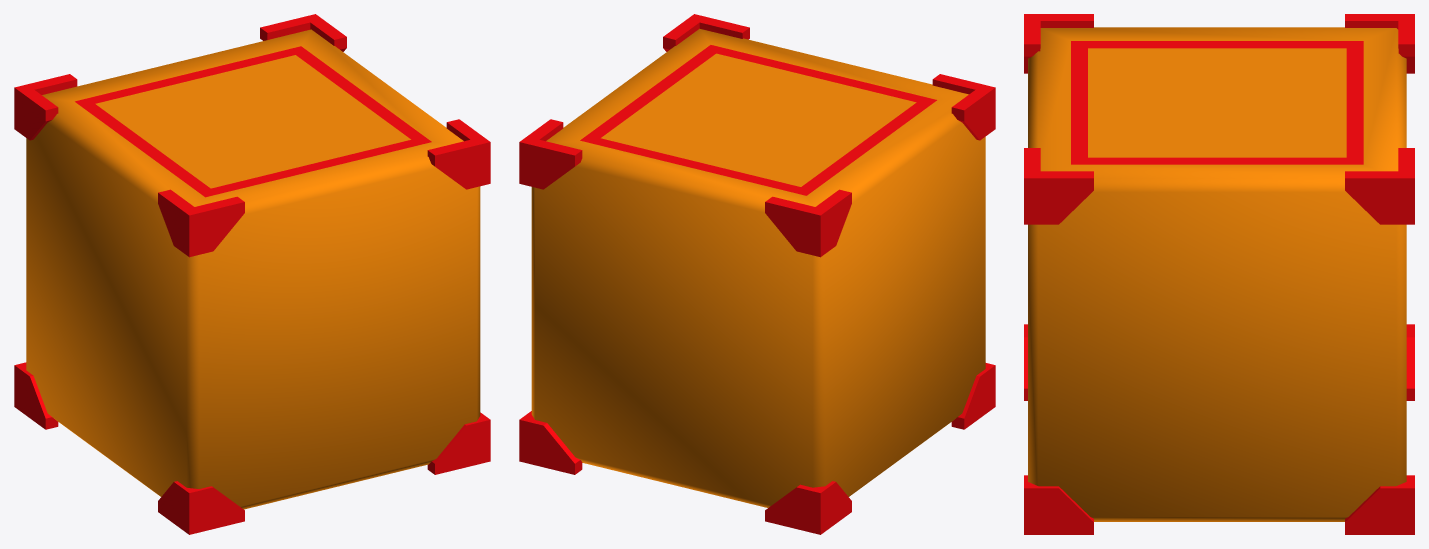
File: MachineBossRainBlock.fbx
3 views of the same model, side by side, from view 1: azimuth 30°, elevation 25°; view 2: azimuth 150°, elevation 25°; view 3: azimuth 270°, elevation 25° (orthographic). The views are drawn at different scales.
Visible parts, largest first — view 1: Cube.000, Cube.001; view 2: Cube.000, Cube.001; view 3: Cube.000, Cube.001.
Part boxes in pixels (x1,y1,x2,y2): Cube.000: (26, 29, 480, 509); Cube.001: (14, 14, 490, 534); Cube.000: (531, 28, 985, 507); Cube.001: (519, 14, 995, 534); Cube.000: (1028, 27, 1406, 521); Cube.001: (1024, 14, 1414, 534).
Bounding box in the file's own units: 30780 × 31189 × 30956.
2 materials, 2 textured.
